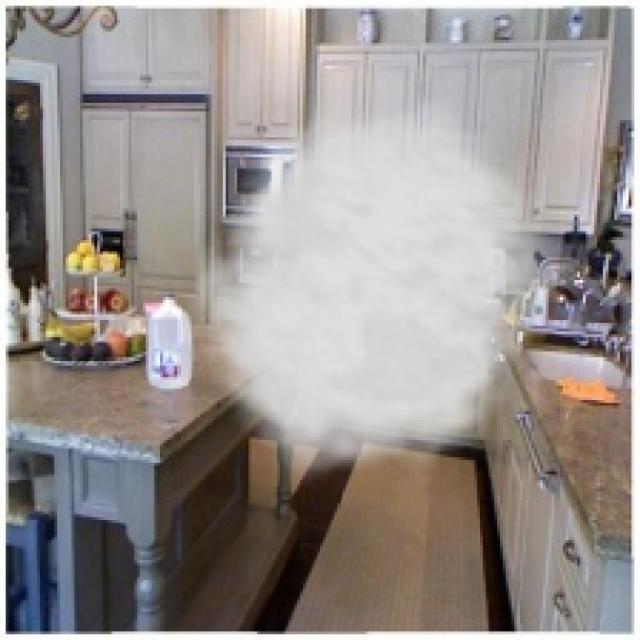Smoke: (180, 94, 569, 492)
